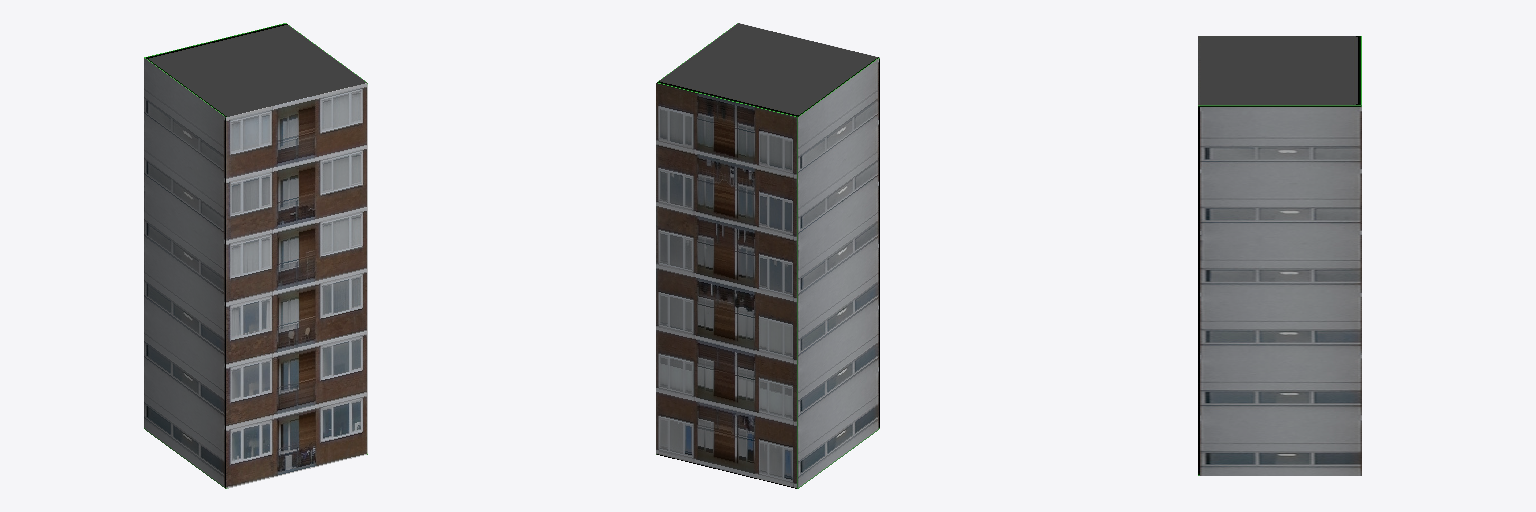
3 views of the same model, side by side, from view 1: azimuth 30°, elevation 25°; view 2: azimuth 150°, elevation 25°; view 3: azimuth 270°, elevation 25° (orthographic).
Visible parts, largest first — view 1: Box001; view 2: Box001; view 3: Box001.
Boxes of the visible parts, x1,y1,x2,y2 form: Box001: [144, 23, 367, 488]; Box001: [656, 23, 879, 488]; Box001: [1198, 36, 1361, 475].
Size of the model in its own units: 20 by 50 by 20.
Materials: 1 (1 with a texture image).